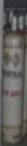cylinder: (0, 1, 27, 146)
